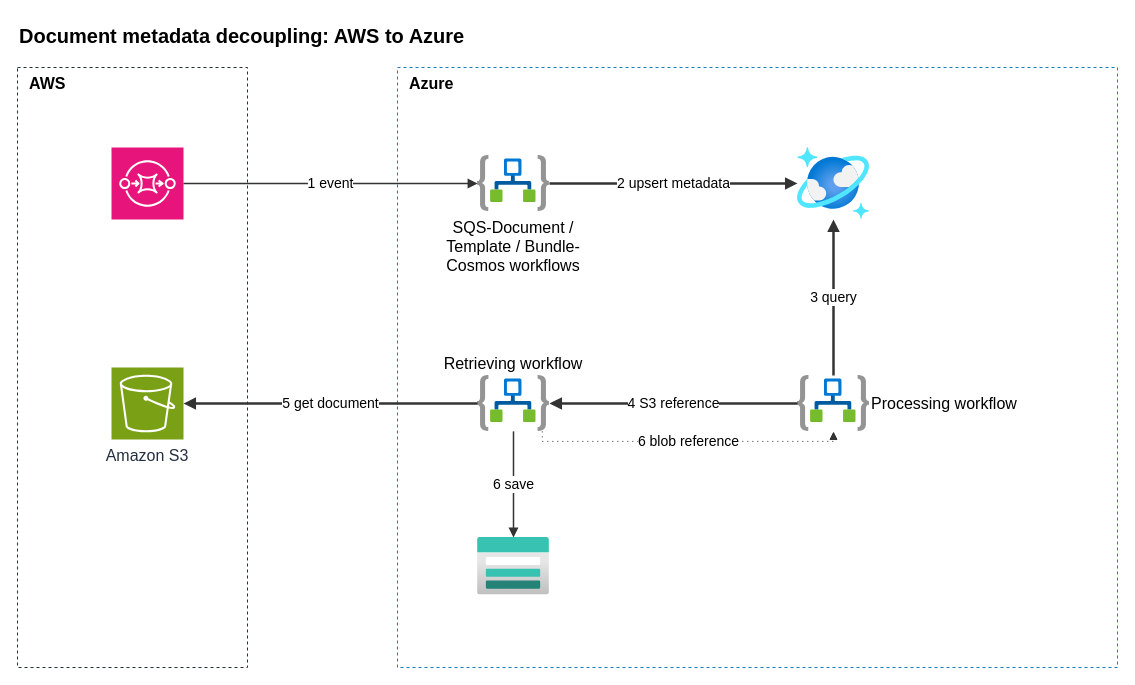
Some shapes in this 1135 by 685 pixel diagram are drawn without their labels. The shapes that lost their labels are listed below. From the top down, each one's centre as x and y in pixels, then its label:
(147,183): Amazon SQS
(833,183): Azure Cosmos DB Database Exports
(513,566): Temporary Blob Storage
